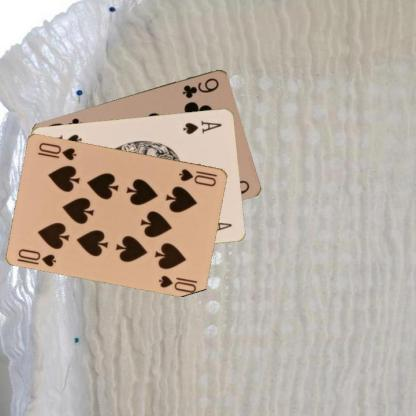10s: (176, 166, 219, 188), (15, 246, 58, 268)
9c: (180, 75, 221, 99)
As: (180, 117, 223, 135)
